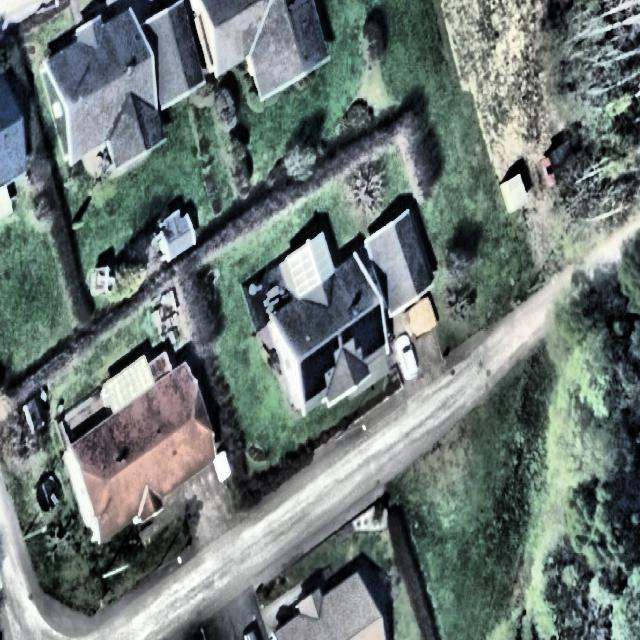roof_pv: (300, 332, 340, 400), (340, 305, 387, 360)
